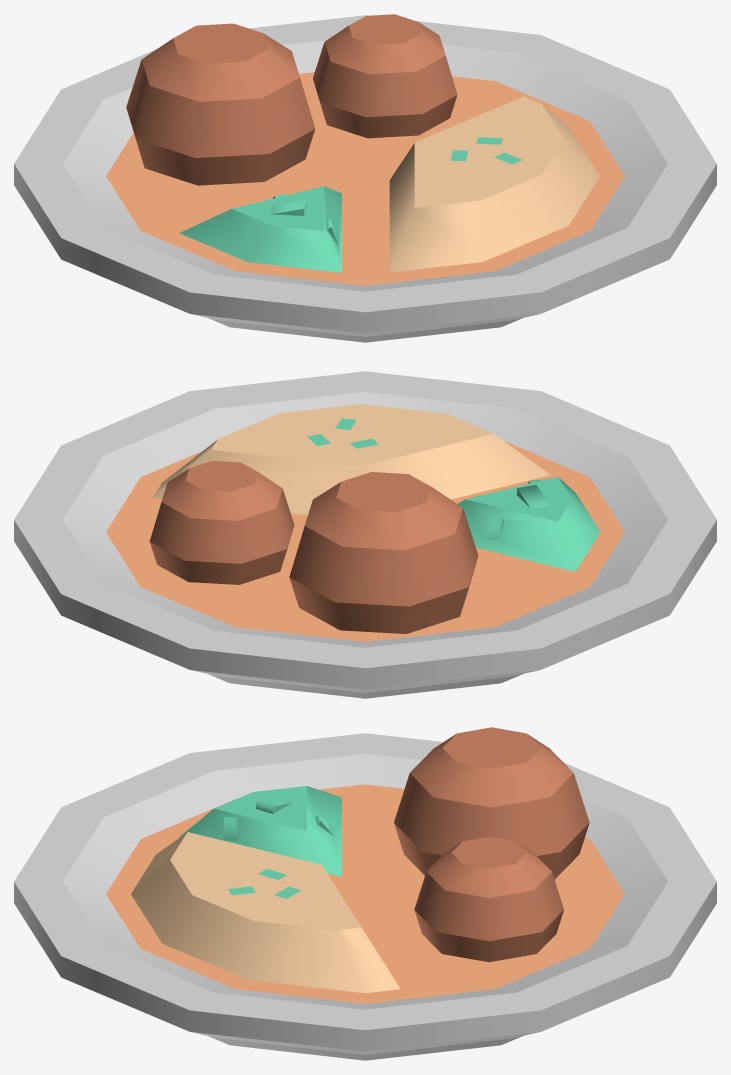
The model's file is plateDinner.obj.
3 renders of one model, top to bottom at view 1: azimuth 30°, elevation 25°; view 2: azimuth 150°, elevation 25°; view 3: azimuth 270°, elevation 25°, orthographic.
Visible parts, largest first — view 1: plateDinner; view 2: plateDinner; view 3: plateDinner.
Part boxes in pixels (box(x1,y1,x2,y2)): plateDinner: box(14, 14, 716, 342); plateDinner: box(14, 371, 716, 698); plateDinner: box(14, 727, 716, 1060).
Bounding box in the file's own units: 0.8918 × 0.2214 × 0.8918.
